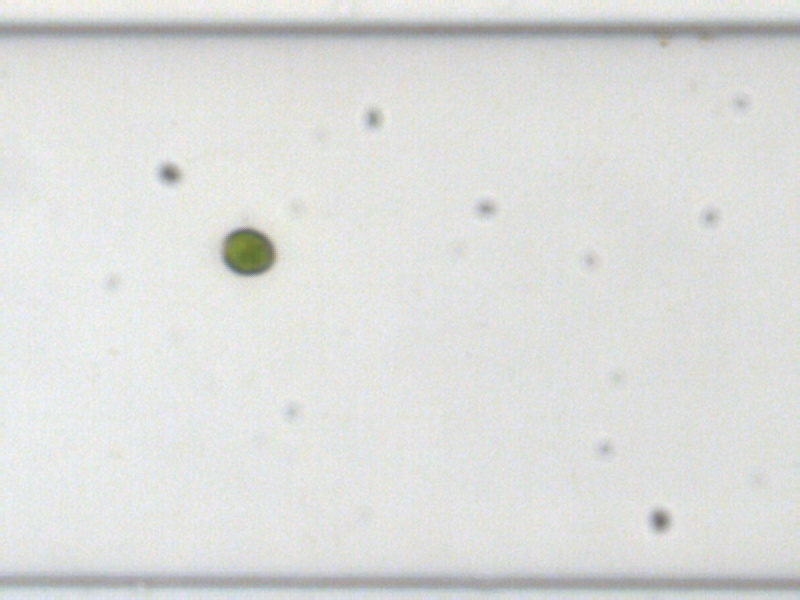Platymonas: (215, 221, 278, 282)
